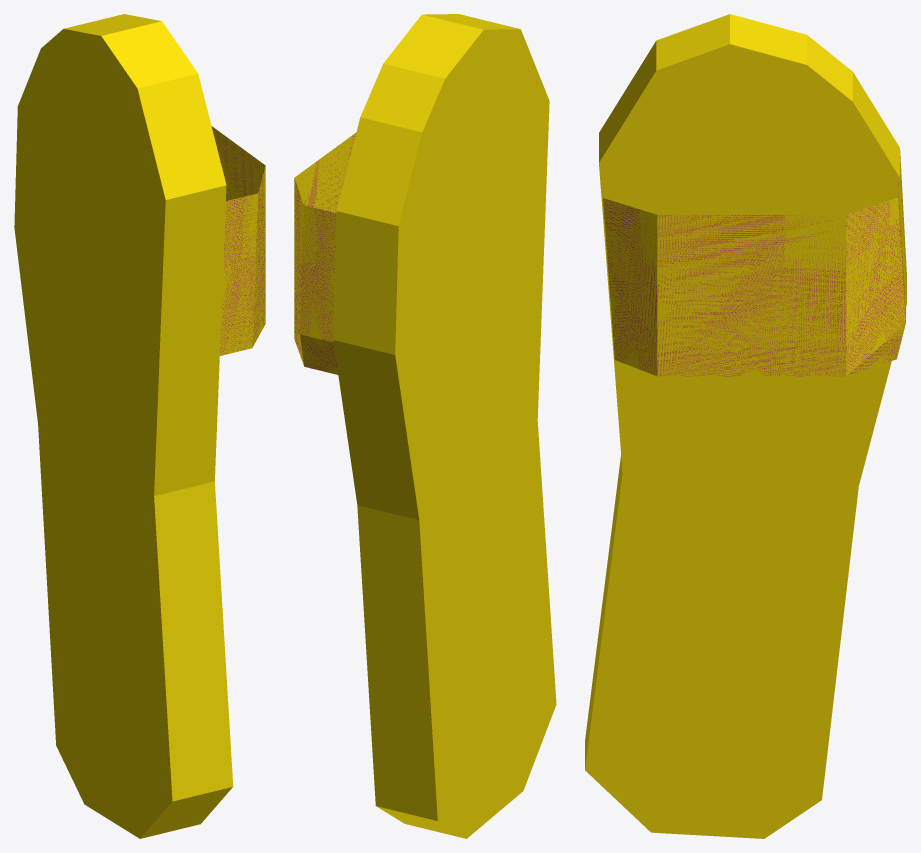
Rendered from badslipper.fbx.
3 renders of one model, left to right at view 1: azimuth 30°, elevation 25°; view 2: azimuth 150°, elevation 25°; view 3: azimuth 270°, elevation 25°, orthographic. The views are drawn at different scales.
Parts seen in each view (by area): view 1: Cube; view 2: Cube; view 3: Cube.
Part boxes in pixels (<box>): Cube: <box>14,14,265,838</box>; Cube: <box>294,14,556,838</box>; Cube: <box>585,14,906,838</box>.
Size of the model in its own units: 34.8 by 202 by 74.13.
